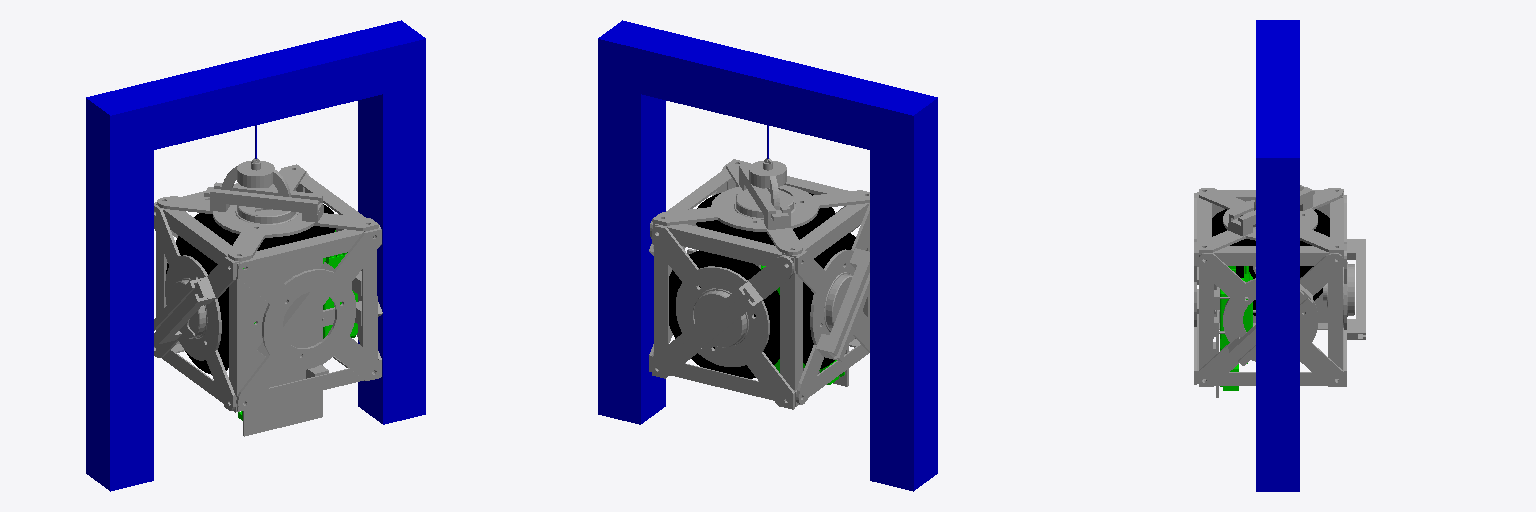
robot.urdf — cube_pillars:
<robot
  name="cube_pillars">
  <link
    name="base_global_link">
    <inertial>
      <origin
        xyz="3.7297E-17 1.5836E-15 0.15167"
        rpy="0 0 0" />
      <mass
        value="0.59402" />
      <inertia
        ixx="0.0037192"
        ixy="-1.6783E-20"
        ixz="-6.3649E-19"
        iyy="0.0080768"
        iyz="-3.8004E-17"
        izz="0.0044468" />
    </inertial>
    <visual>
      <origin
        xyz="0 0 0"
        rpy="0 0 0" />
      <geometry>
        <mesh
          filename="package://cube_pillars/meshes/base_global_link.STL" />
      </geometry>
      <material
        name="">
        <color rgba="0.0 0.0 0.9 0.7" />
      </material>
    </visual>
    <collision>
      <origin
        xyz="0 0 0"
        rpy="0 0 0" />
      <geometry>
        <mesh
          filename="package://cube_pillars/meshes/base_global_link.STL" />
      </geometry>
    </collision>
  </link>
  <link
    name="hook_link">
    <inertial>
      <origin
        xyz="0.0018383 -0.0040417 -0.07992"
        rpy="0 0 0" />
      <mass
        value="0.1989" />
      <inertia
        ixx="0.00050844"
        ixy="3.079E-06"
        ixz="-6.1575E-06"
        iyy="0.00050602"
        iyz="-1.0434E-05"
        izz="0.00052641" />
    </inertial>
    <visual>
      <origin
        xyz="0 0 0"
        rpy="0 0 0" />
      <geometry>
        <mesh
          filename="package://cube_pillars/meshes/hook_link.STL" />
      </geometry>
      <material name="">
        <color rgba="0.66 0.66 0.66 0.6" />
      </material>
    </visual>
    <collision>
      <origin
        xyz="0 0 0"
        rpy="0 0 0" />
      <geometry>
        <mesh
          filename="package://cube_pillars/meshes/hook_link.STL" />
      </geometry>
    </collision>
  </link>
  <joint
    name="hook_joint"
    type="continuous">
    <origin
      xyz="0 0 0.19"
      rpy="0 0 0" />
    <parent
      link="base_global_link" />
    <child
      link="hook_link" />
    <axis
      xyz="0 0 1" />
  </joint>
  <link
    name="components_link">
    <inertial>
      <origin
        xyz="-0.019545 -0.0046739 0.032907"
        rpy="0 0 0" />
      <mass
        value="0.06292" />
      <inertia
        ixx="4.4926E-05"
        ixy="6.032E-06"
        ixz="6.4596E-06"
        iyy="3.9747E-05"
        iyz="-5.3189E-06"
        izz="6.2709E-05" />
    </inertial>
    <visual>
      <origin
        xyz="0 0 0"
        rpy="0 0 0" />
      <geometry>
        <mesh
          filename="package://cube_pillars/meshes/components_link.STL" />
      </geometry>
      <material name="">
        <color rgba="0.0 0.9 0.0 0.7" />
      </material>
    </visual>
    <collision>
      <origin
        xyz="0 0 0"
        rpy="0 0 0" />
      <geometry>
        <mesh
          filename="package://cube_pillars/meshes/components_link.STL" />
      </geometry>
    </collision>
  </link>
  <joint
    name="components_joint"
    type="fixed">
    <origin
      xyz="0.0048505 -0.056659 -0.086037"
      rpy="1.5708 0 3.1416" />
    <parent
      link="hook_link" />
    <child
      link="components_link" />
    <axis
      xyz="0 0 0" />
  </joint>
  <link
    name="x_wheel_link">
    <inertial>
      <origin
        xyz="0 0 0.00075"
        rpy="0 0 0" />
      <mass
        value="0.020913" />
      <inertia
        ixx="1.0298E-05"
        ixy="-2.1176E-22"
        ixz="-3.6746E-24"
        iyy="1.0298E-05"
        iyz="-2.5406E-25"
        izz="2.0587E-05" />
    </inertial>
    <visual>
      <origin
        xyz="0 0 0"
        rpy="0 0 0" />
      <geometry>
        <mesh
          filename="package://cube_pillars/meshes/x_wheel_link.STL" />
      </geometry>
      <material name="">
        <color rgba="0.0 0.0 0.0 0.6" />
      </material>
    </visual>
    <collision>
      <origin
        xyz="0 0 0"
        rpy="0 0 0" />
      <geometry>
        <mesh
          filename="package://cube_pillars/meshes/x_wheel_link.STL" />
      </geometry>
    </collision>
  </link>
  <joint
    name="x_wheel_joint"
    type="continuous">
    <origin
      xyz="-0.03936 -0.0046597 -0.086939"
      rpy="-1.5708 -0.31401 1.5708" />
    <parent
      link="hook_link" />
    <child
      link="x_wheel_link" />
    <axis
      xyz="0 0 -1" />
    <limit
      effort="1"
      velocity="1000" />
  </joint>
  <link
    name="y_wheel_link">
    <inertial>
      <origin
        xyz="2.1684E-19 0 0.00075"
        rpy="0 0 0" />
      <mass
        value="0.020913" />
      <inertia
        ixx="1.0298E-05"
        ixy="2.9646E-21"
        ixz="8.2298E-24"
        iyy="1.0298E-05"
        iyz="-4.0619E-24"
        izz="2.0587E-05" />
    </inertial>
    <visual>
      <origin
        xyz="0 0 0"
        rpy="0 0 0" />
      <geometry>
        <mesh
          filename="package://cube_pillars/meshes/y_wheel_link.STL" />
      </geometry>
      <material name="">
        <color rgba="0.0 0.0 0.0 0.6" />
      </material>
    </visual>
    <collision>
      <origin
        xyz="0 0 0"
        rpy="0 0 0" />
      <geometry>
        <mesh
          filename="package://cube_pillars/meshes/y_wheel_link.STL" />
      </geometry>
    </collision>
  </link>
  <joint
    name="y_wheel_joint"
    type="continuous">
    <origin
      xyz="0.0047528 -0.0046591 -0.042827"
      rpy="2.9871E-16 -1.172E-16 1.0096" />
    <parent
      link="hook_link" />
    <child
      link="y_wheel_link" />
    <axis
      xyz="0 0 1" />
    <limit
      effort="1"
      velocity="1000" />
  </joint>
  <link
    name="z_wheel_link">
    <inertial>
      <origin
        xyz="0 -1.3878E-17 -0.00075"
        rpy="0 0 0" />
      <mass
        value="0.020913" />
      <inertia
        ixx="1.0298E-05"
        ixy="4.2352E-22"
        ixz="8.2746E-24"
        iyy="1.0298E-05"
        iyz="1.2707E-23"
        izz="2.0587E-05" />
    </inertial>
    <visual>
      <origin
        xyz="0 0 0"
        rpy="0 0 0" />
      <geometry>
        <mesh
          filename="package://cube_pillars/meshes/z_wheel_link.STL" />
      </geometry>
      <material name="">
        <color rgba="0.0 0.0 0.0 0.6" />
      </material>
    </visual>
    <collision>
      <origin
        xyz="0 0 0"
        rpy="0 0 0" />
      <geometry>
        <mesh
          filename="package://cube_pillars/meshes/z_wheel_link.STL" />
      </geometry>
    </collision>
  </link>
  <joint
    name="z_wheel_joint"
    type="continuous">
    <origin
      xyz="0.0047528 0.042953 -0.08794"
      rpy="-1.5708 -0.47731 -1.9742E-08" />
    <parent
      link="hook_link" />
    <child
      link="z_wheel_link" />
    <axis
      xyz="0 0 1" />
    <limit
      effort="1"
      velocity="1000" />
  </joint>
  <!-- SDF properties -->
  <!-- Colors -->
  <gazebo reference="base_global_link">
    <material>Gazebo/BlueEmissive</material>
  </gazebo>
  <gazebo reference="hook_link">
    <material>Gazebo/DarkGray</material>
  </gazebo>
  <gazebo reference="components_link">
    <material>Gazebo/PCBGreen</material>
  </gazebo>
  <gazebo reference="x_wheel_link">
    <material>Gazebo/BlackTransparent</material>
  </gazebo>
  <gazebo reference="y_wheel_link">
    <material>Gazebo/BlackTransparent</material>
  </gazebo>
  <gazebo reference="z_wheel_link">
    <material>Gazebo/BlackTransparent</material>
  </gazebo>
  <!-- Dynamics -->
  <gazebo reference="x_wheel_joint">
    <provideFeedback>true</provideFeedback>
  </gazebo>
  <gazebo reference="y_wheel_joint">
    <provideFeedback>true</provideFeedback>
  </gazebo>
  <gazebo reference="z_wheel_joint">
    <provideFeedback>true</provideFeedback>
  </gazebo>
  <!-- Sensors -->
  <gazebo reference="base_global_link">
    <gravity>true</gravity>
    <sensor name="imu_sensor" type="imu">
      <always_on>true</always_on>
      <update_rate>100</update_rate>
      <visualize>true</visualize>
      <topic>__default_topic__</topic>
      <plugin name="imu_plugin" filename="libgazebo_ros_imu_sensor.so">
        <robotNamespace>cube</robotNamespace>
        <topicName>imu_data</topicName>
        <bodyName>base_global_link</bodyName>
        <updateRateHZ>10.0</updateRateHZ>
        <gaussianNoise>0.0</gaussianNoise>
        <xyzOffset>0 0 0</xyzOffset>
        <rpyOffset>0 0 0</rpyOffset>
        <frameName>base_global_link</frameName>
      </plugin>
      <pose>0 0 0 0 0 0</pose>
    </sensor>
  </gazebo>
</robot>

--- Facts derived from the render (not from the file) ---
Views: 3 orthographic renders of the robot side by side, from view 1: azimuth 30°, elevation 25°; view 2: azimuth 150°, elevation 25°; view 3: azimuth 270°, elevation 25°.
Robot: cube_pillars — 6 links, 5 joints (4 continuous, 1 fixed); root link base_global_link; default pose: all joints at 0.
Links seen in each view (by area): view 1: base_global_link, hook_link, x_wheel_link, y_wheel_link; view 2: base_global_link, hook_link, z_wheel_link, y_wheel_link, x_wheel_link; view 3: hook_link, base_global_link, components_link, y_wheel_link.
Boxes of the visible links, x1=… form: base_global_link: x1=86, y1=20, x2=425, y2=491; hook_link: x1=154, y1=158, x2=382, y2=436; x_wheel_link: x1=166, y1=239, x2=228, y2=374; y_wheel_link: x1=196, y1=204, x2=335, y2=250; base_global_link: x1=598, y1=20, x2=937, y2=491; hook_link: x1=649, y1=158, x2=869, y2=409; z_wheel_link: x1=669, y1=250, x2=779, y2=378; y_wheel_link: x1=696, y1=193, x2=834, y2=245; x_wheel_link: x1=803, y1=233, x2=855, y2=368; hook_link: x1=1194, y1=185, x2=1365, y2=397; base_global_link: x1=1256, y1=20, x2=1299, y2=491; components_link: x1=1220, y1=266, x2=1252, y2=390; y_wheel_link: x1=1212, y1=209, x2=1329, y2=245.
Bounding box of the posed robot: 0.22 × 0.1165 × 0.25 m (x, y, z).
Meshes: 6 distinct files referenced, 6 mesh visuals loaded (6 binary STL).